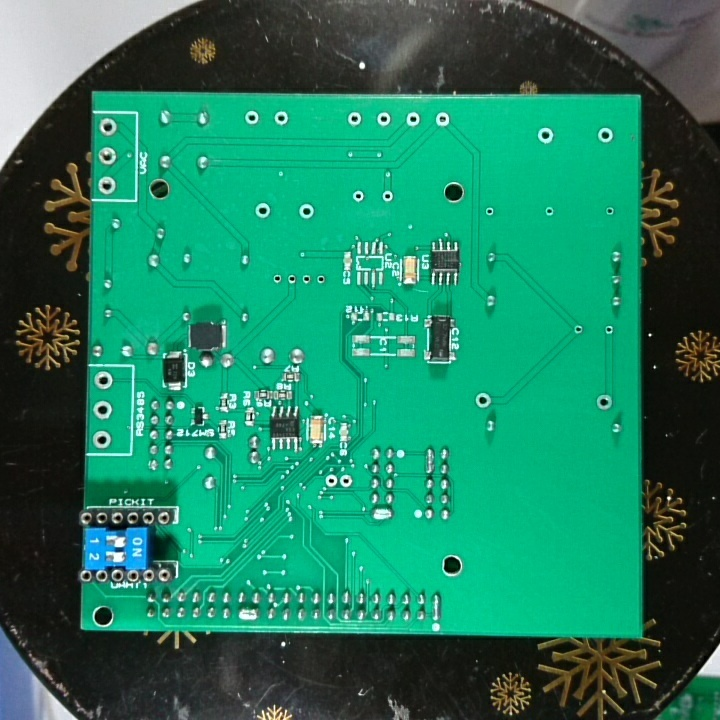F: (91, 369, 116, 392), (91, 397, 114, 421), (96, 174, 119, 197), (91, 426, 113, 450), (534, 123, 556, 146), (97, 115, 119, 138), (295, 201, 319, 222), (97, 144, 119, 166), (252, 200, 273, 223), (594, 124, 615, 146), (473, 389, 493, 412), (593, 392, 614, 412), (433, 109, 454, 129), (402, 108, 422, 129), (374, 109, 394, 130), (271, 108, 291, 128), (242, 107, 261, 128), (345, 109, 363, 130), (322, 472, 339, 492), (379, 187, 397, 205), (349, 186, 366, 205), (338, 472, 354, 492), (602, 203, 619, 220), (570, 322, 588, 338), (285, 269, 299, 289), (482, 203, 498, 220), (271, 270, 285, 289), (300, 269, 313, 289), (313, 269, 327, 287), (542, 203, 557, 219), (602, 321, 616, 338)
P: (429, 590, 444, 621), (423, 445, 437, 475), (236, 605, 261, 621), (371, 506, 394, 523)
